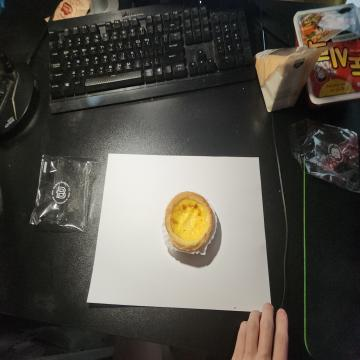EggTart: (164, 191, 214, 252)
